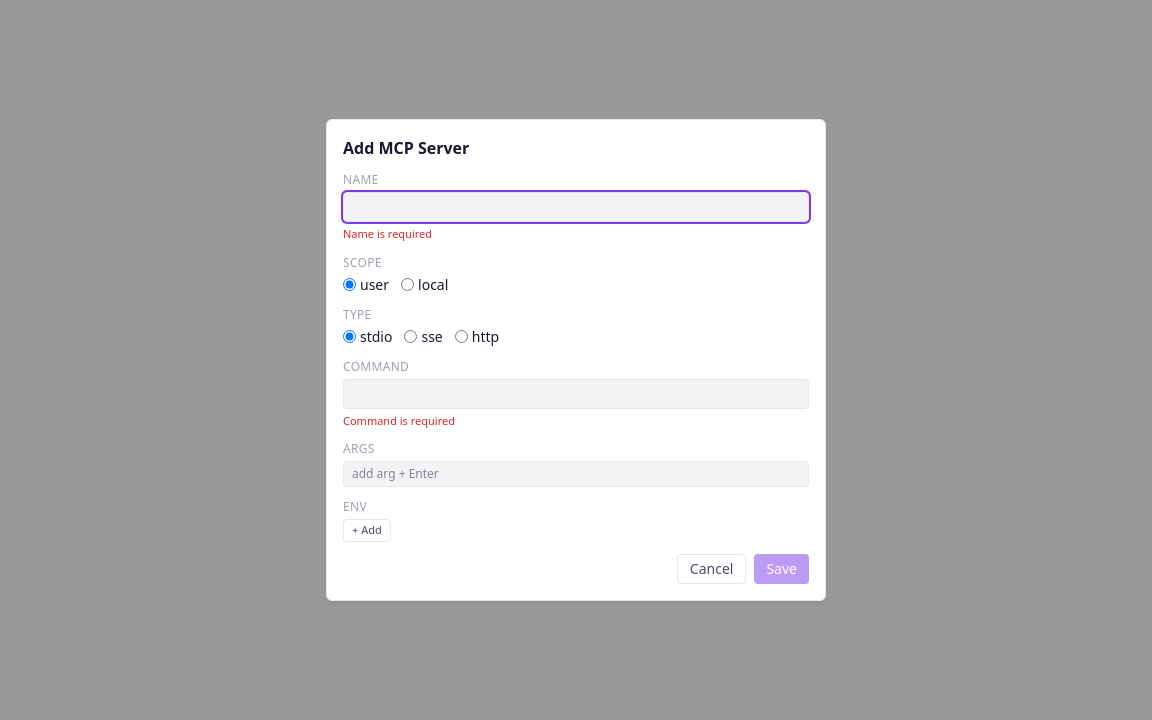
Test: McpServerForm › URL validation for sse/http
Click the radio button with test id "form-type-http". click: (461, 337)
box: x1=455 y1=330 x2=468 y2=343
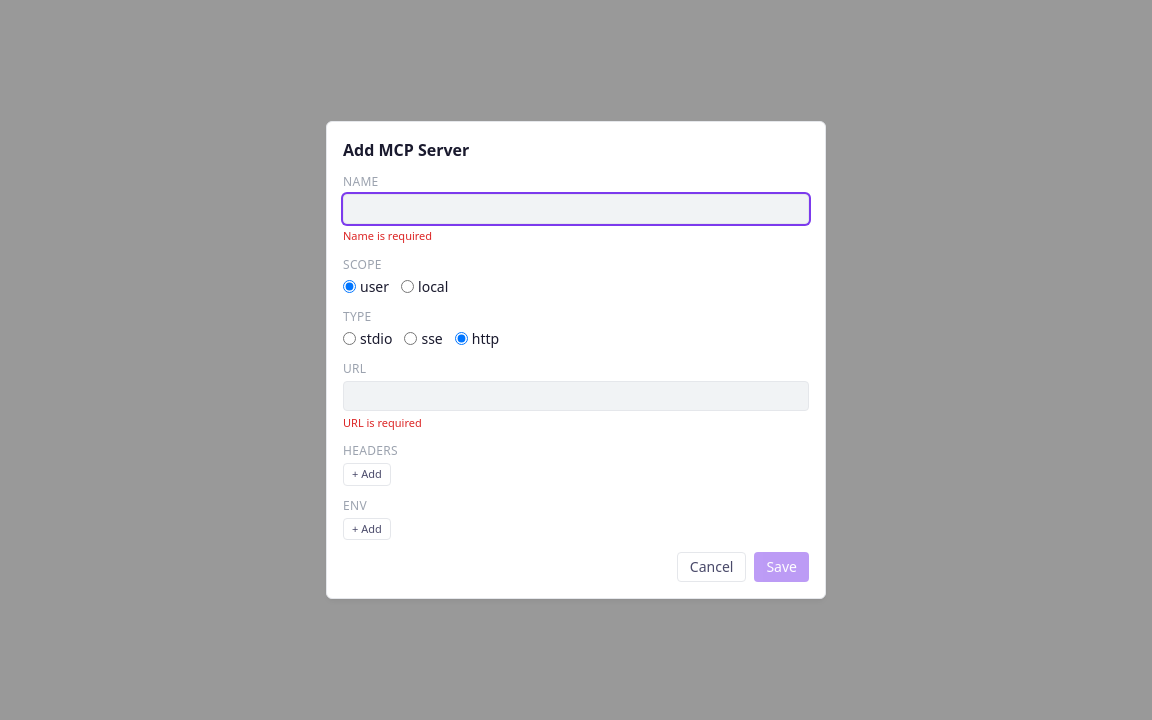
Type "ok" into the field with test id "form-name". click: (576, 209)
box: x1=343 y1=194 x2=809 y2=224
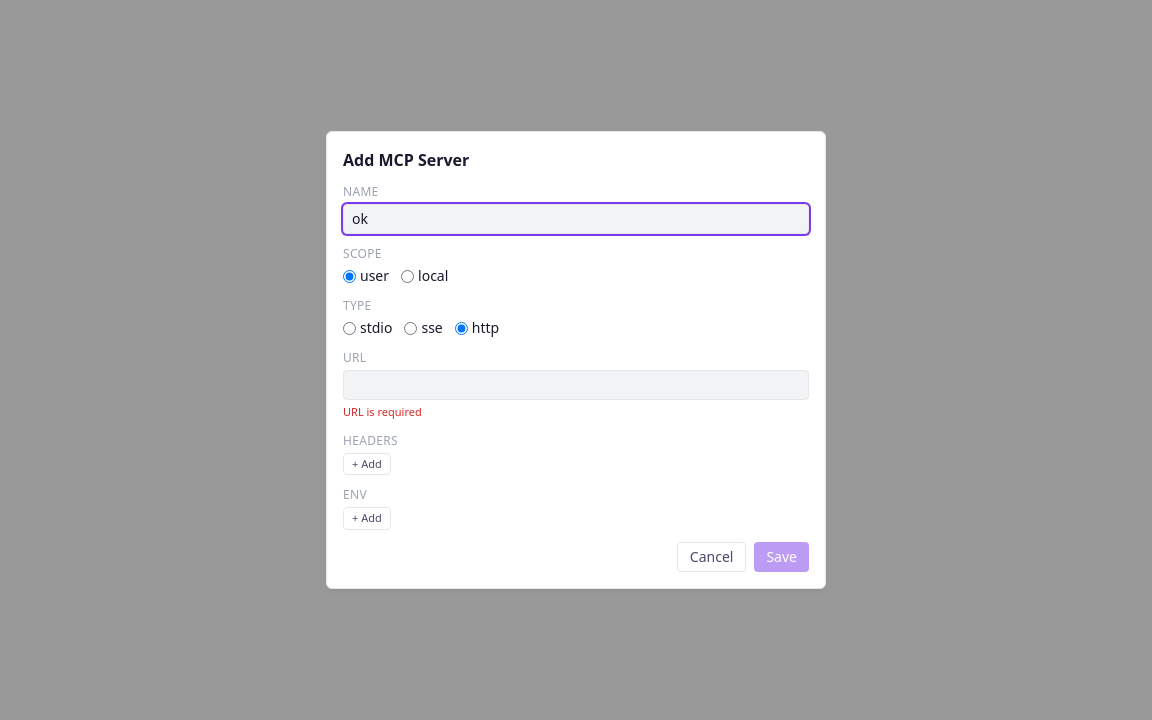
Type "not a url" into the field with test id "form-url". click: (576, 385)
box: x1=343 y1=370 x2=809 y2=400
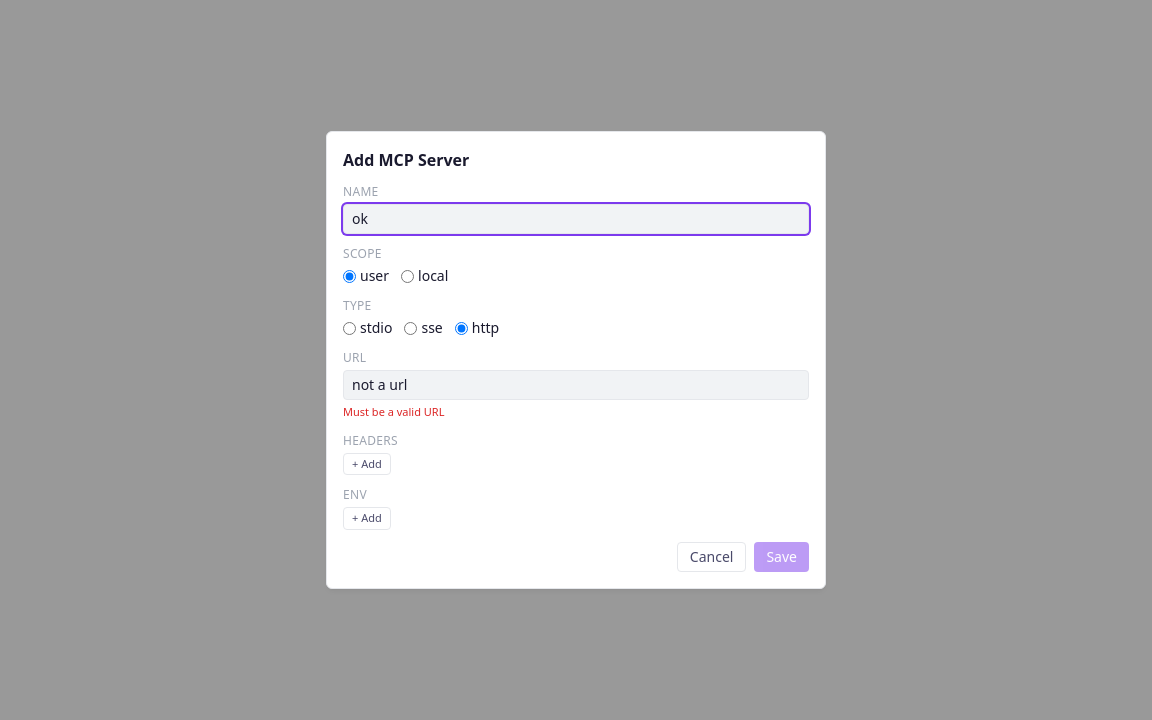
Expected: the text with test id "form-error-url" shows "valid URL", x1=343 y1=404 x2=444 y2=419
Replace the text in the field with test id "form-url" with "https://x.test/mcp". click: (576, 385)
box: x1=343 y1=370 x2=809 y2=400
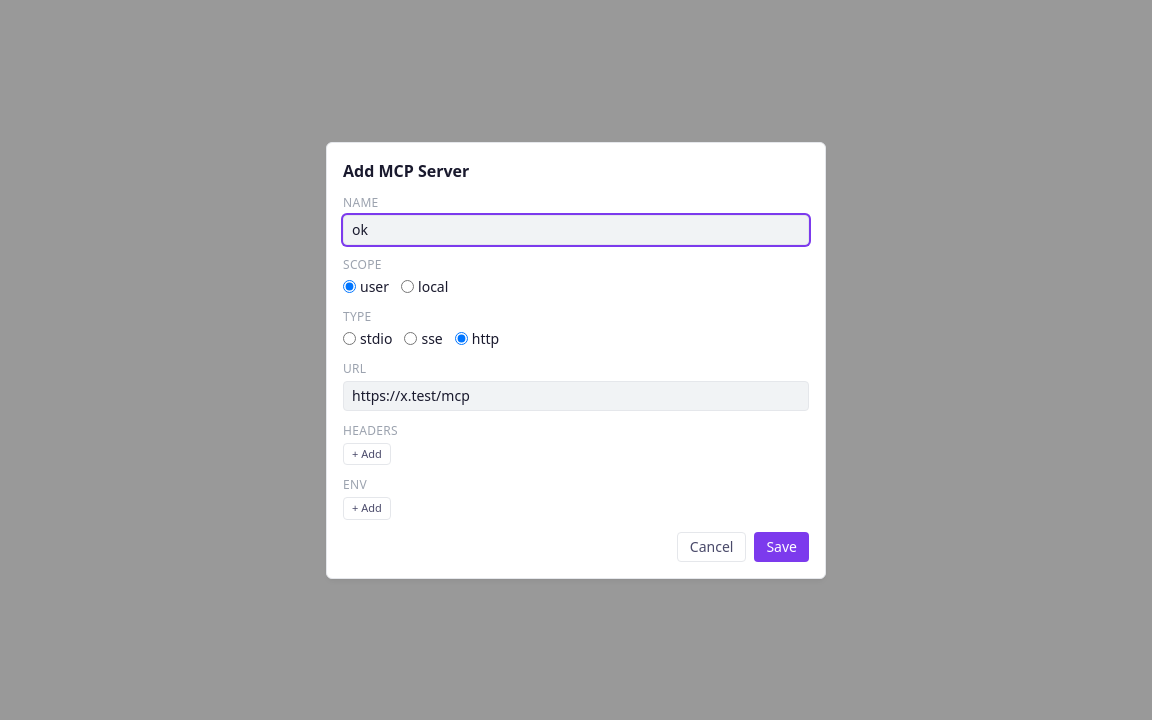
Expected: the text with test id "form-error-url" is gone
